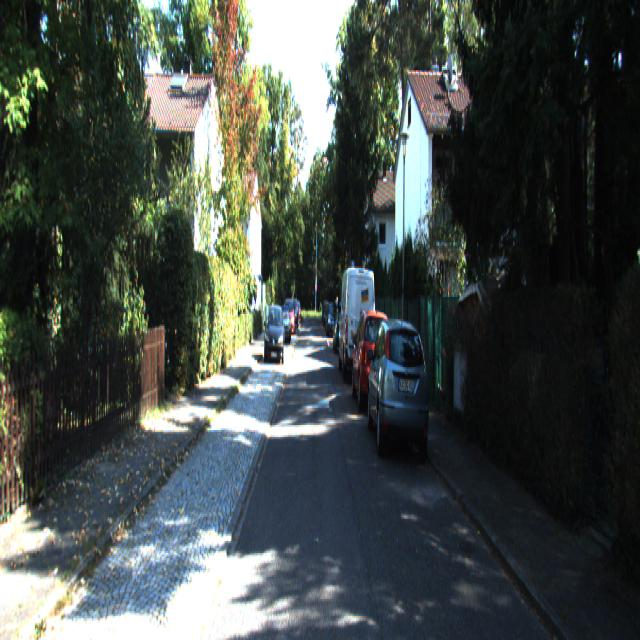Car: (366, 316, 430, 470), (352, 307, 398, 419), (265, 304, 285, 368)
DontCare: (286, 281, 336, 359)
Van: (338, 262, 375, 387)
